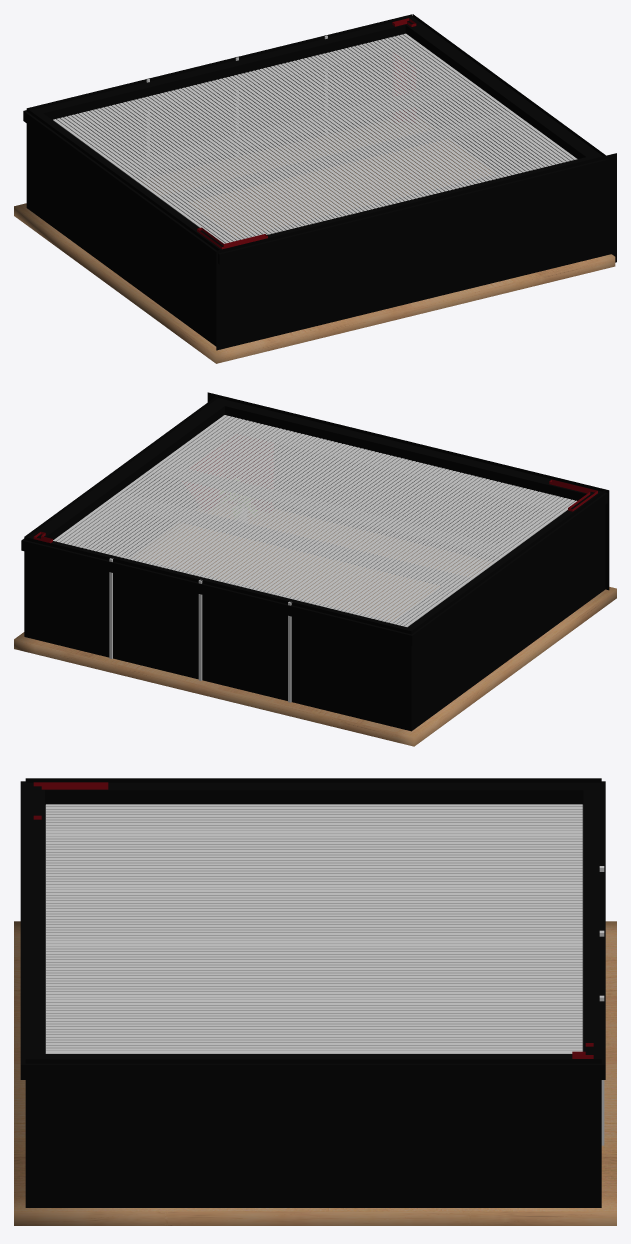
Rendered from InteriorStudio.fbx.
The picture shows the model from 3 angles, top to bottom: view 1: azimuth 30°, elevation 25°; view 2: azimuth 150°, elevation 25°; view 3: azimuth 270°, elevation 25°; orthographic projection. The views are drawn at different scales.
Parts seen in each view (by area): view 1: CeilingBlinds, Wall_1, Concealer, Wall_2, Floor, GlassWall, CeilingFrame2, Wall_3, CeilingFrame1; view 2: CeilingBlinds, GlassWall, Concealer, Wall_2, Floor, Wall_1, CeilingFrame1, CeilingFrame2, Wall_3, GlassPillars, diagonal_2; view 3: CeilingBlinds, Wall_3, Concealer, Floor, Wall_2, column_2.
Part boxes in pixels (x1,y1,x2,y2): CeilingBlinds: [53, 33, 577, 243]; Wall_1: [216, 153, 616, 350]; Concealer: [23, 16, 609, 264]; Wall_2: [26, 108, 219, 346]; Floor: [14, 117, 615, 363]; GlassWall: [27, 14, 412, 180]; CeilingFrame2: [56, 35, 479, 175]; Wall_3: [413, 14, 605, 172]; CeilingFrame1: [161, 112, 573, 242]; CeilingBlinds: [53, 415, 576, 627]; GlassWall: [24, 537, 411, 731]; Concealer: [21, 398, 607, 645]; Wall_2: [411, 490, 605, 730]; Floor: [14, 503, 616, 746]; Wall_1: [207, 392, 609, 590]; CeilingFrame1: [152, 416, 574, 557]; CeilingFrame2: [56, 493, 469, 625]; Wall_3: [24, 395, 217, 636]; GlassPillars: [109, 558, 291, 702]; diagonal_2: [182, 434, 273, 511]; CeilingBlinds: [46, 804, 582, 1053]; Wall_3: [25, 1059, 601, 1207]; Concealer: [20, 781, 605, 1079]; Floor: [14, 921, 616, 1225]; Wall_2: [25, 778, 601, 782]; column_2: [33, 782, 108, 819].
Bounding box in the file's own units: 1431 × 370 × 1239.
17 materials, 7 textured.
